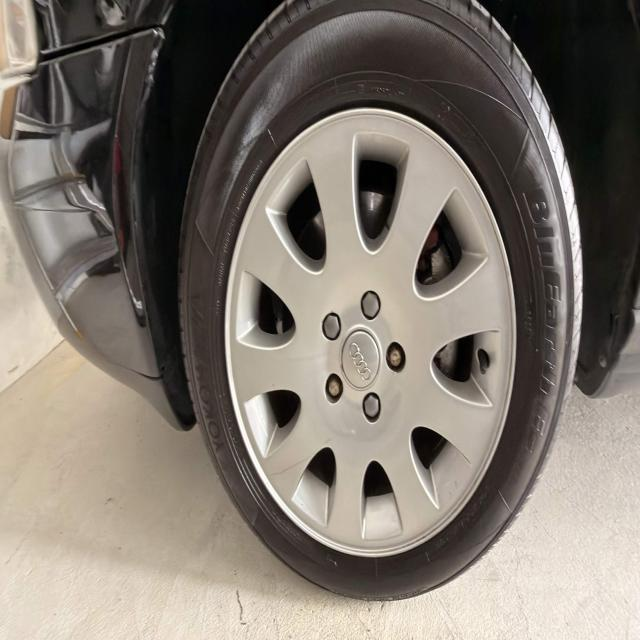jante: (224, 110, 517, 555)
parafuso: (358, 283, 385, 330), (382, 332, 409, 378), (317, 305, 345, 348), (320, 363, 345, 411), (358, 387, 385, 427)
roda: (176, 0, 584, 601)
